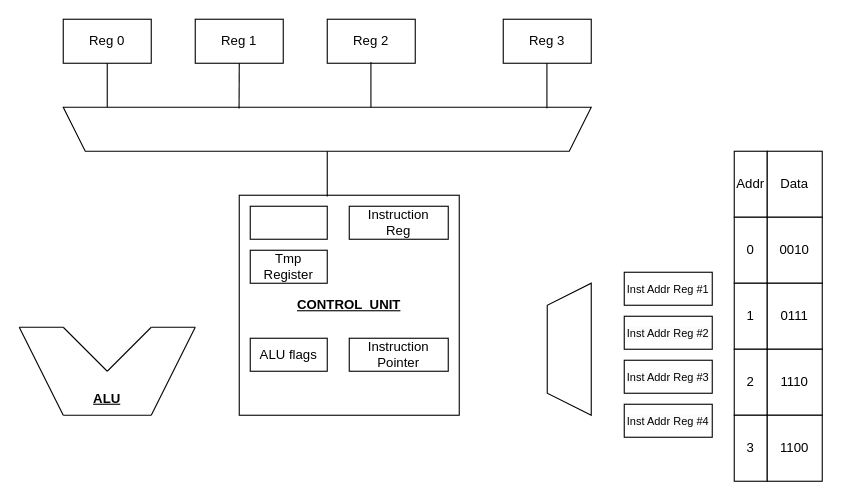
Image size: 842x501. Some labels were removed from this diagram. Here are the shapes that lost their labels. From the top down, the centre of each, then its label:
At point 326,128: "Register Mux".
At point 288,222: "Accumulator".
At point 568,348: "Stack Mux".
